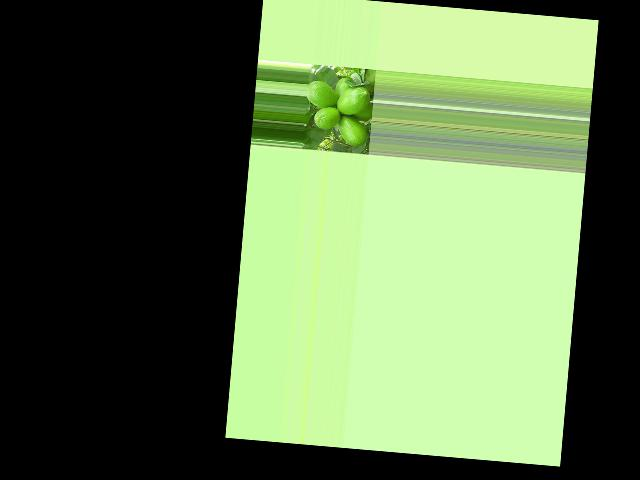lemon: (335, 113, 367, 148)
